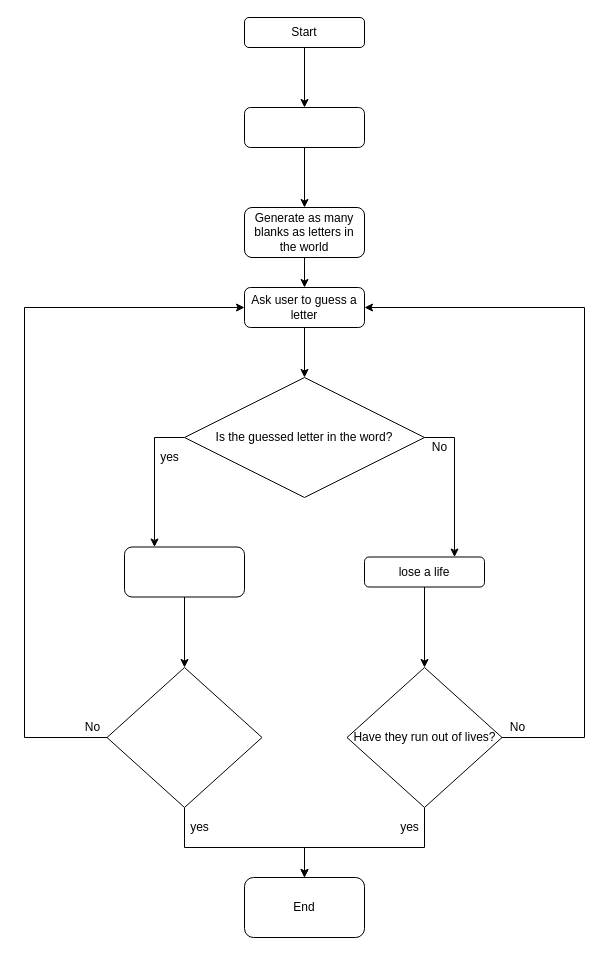
Some shapes in this 610 by 955 pixel diagram are drawn without their labels. The centre of each missing label's shape, as x and y in pixels:
"Are all the blanks Filled?" belongs at (x=184, y=737).
"Generate Random Words" belongs at (x=304, y=127).
"Replace the blank with the letter" belongs at (x=184, y=571).
